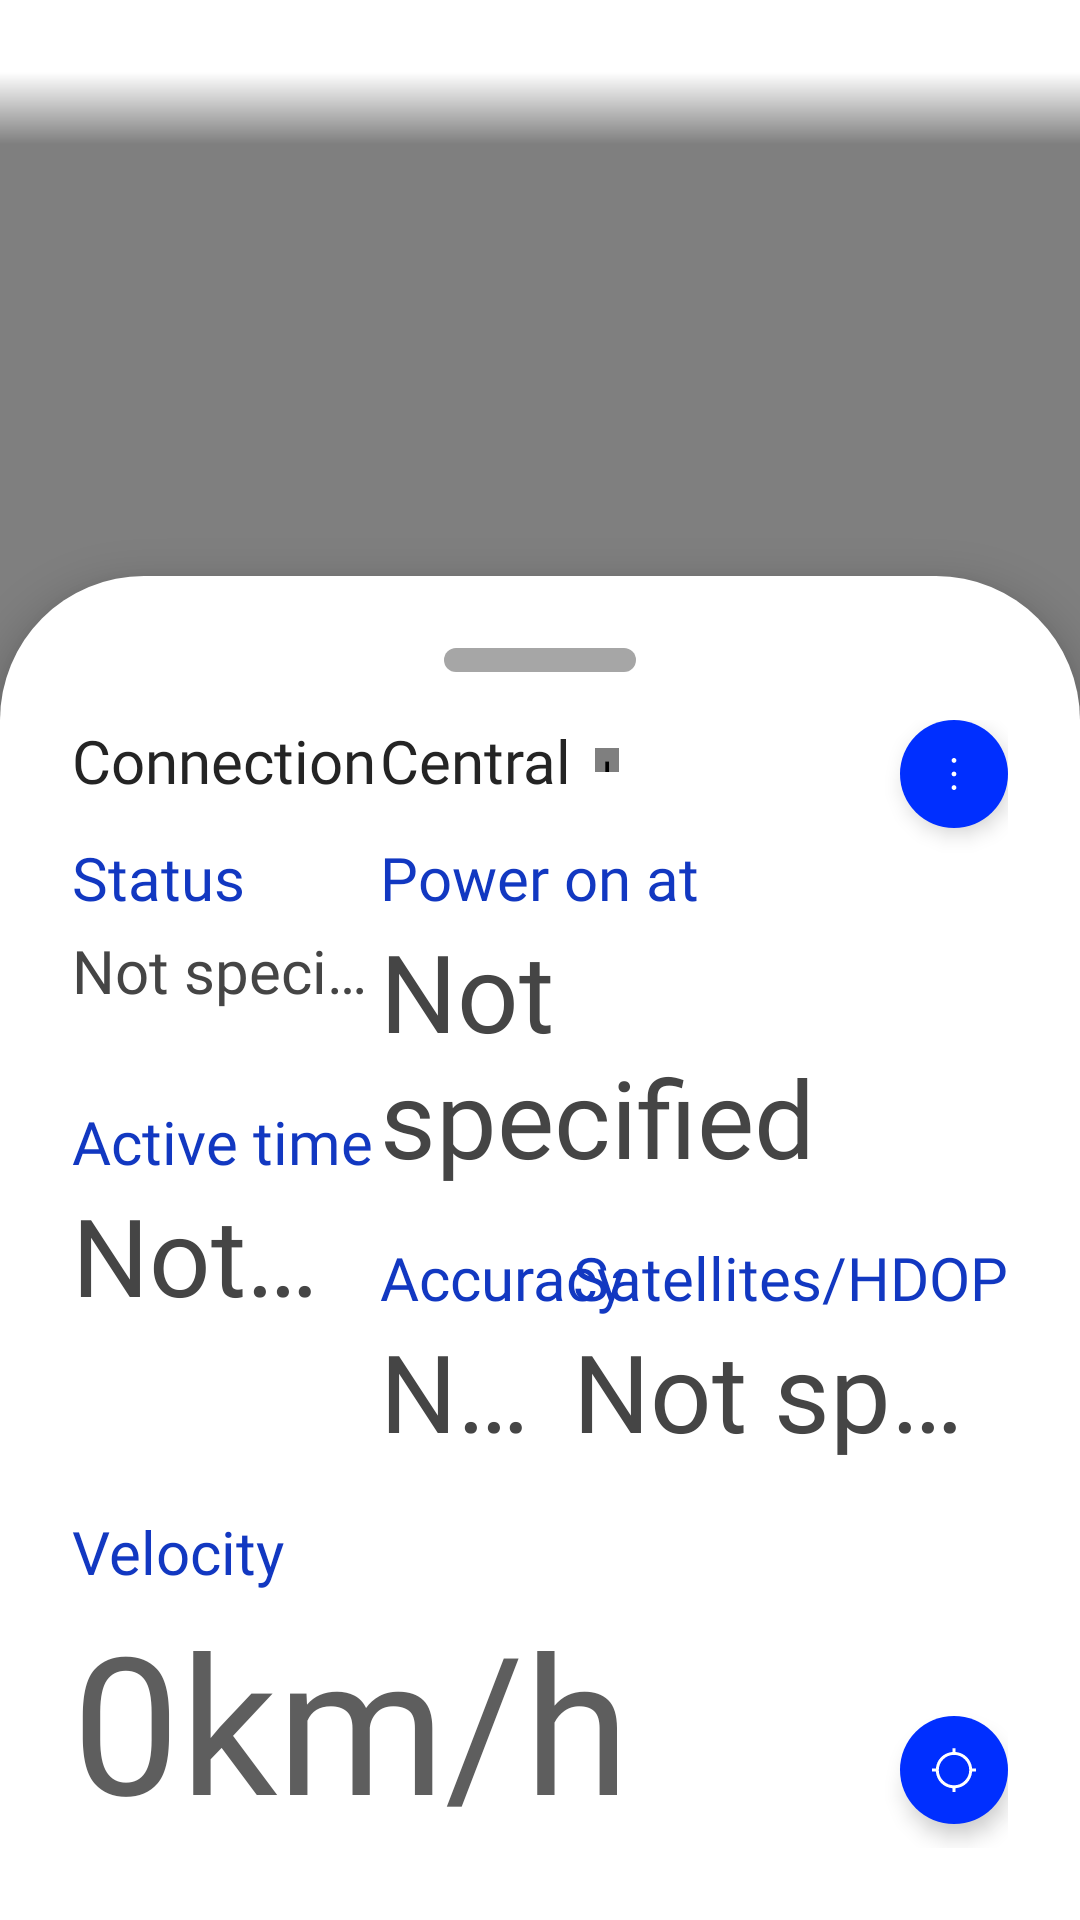

Icon bounding boxes for this 1080w x 1920h phone screenshot, format (x1, y1, x2, y2):
location: (900, 1716, 1008, 1824)
more vertical: (900, 720, 1008, 828)
